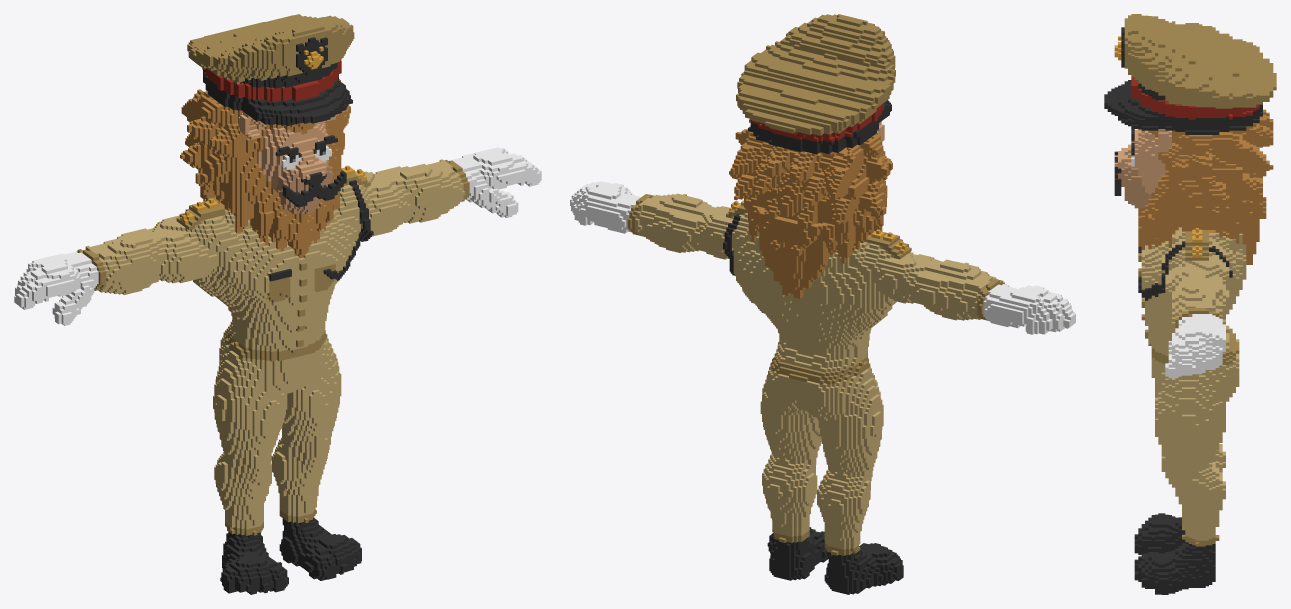
The model's file is 234-DuPlR9SY.fbx.
The picture shows the model from 3 angles, left to right: view 1: azimuth 30°, elevation 25°; view 2: azimuth 150°, elevation 25°; view 3: azimuth 270°, elevation 25°; orthographic projection. The views are drawn at different scales.
Parts seen in each view (by area): view 1: indian_cop; view 2: indian_cop; view 3: indian_cop.
Part boxes in pixels (x1,y1,x2,y2): indian_cop: (14, 14, 541, 594); indian_cop: (570, 14, 1075, 594); indian_cop: (1104, 14, 1276, 594).
Size of the model in its own units: 17.2 by 17.7 by 5.1.
1 material, 1 textured.
